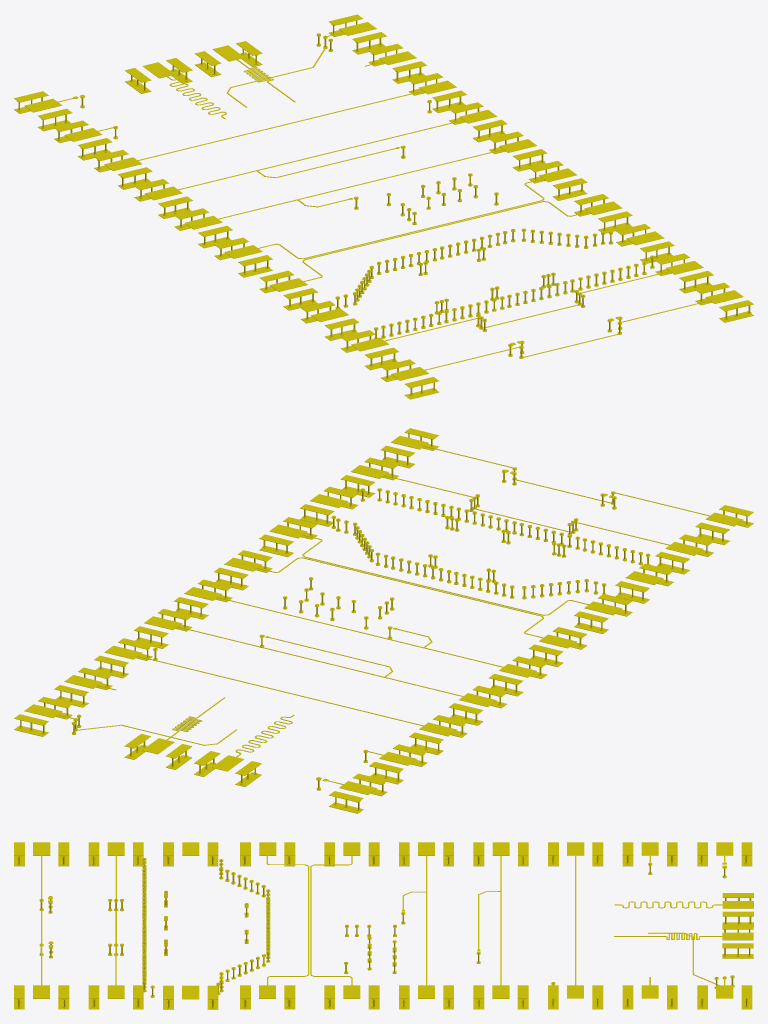
The model's file is signal-integrity-test-board-hs.glb.
3 renders of one model, top to bottom at view 1: azimuth 30°, elevation 25°; view 2: azimuth 150°, elevation 25°; view 3: azimuth 270°, elevation 25°, orthographic. The views are drawn at different scales.
Parts seen in each view (by area): view 1: =>[0:1:1:3], =>[0:1:1:2], =>[0:1:1:4]; view 2: =>[0:1:1:3], =>[0:1:1:2], =>[0:1:1:4]; view 3: =>[0:1:1:3], =>[0:1:1:2], =>[0:1:1:4].
Part boxes in pixels (bbox=[...]): =>[0:1:1:3]: bbox=[14, 14, 753, 399]; =>[0:1:1:2]: bbox=[17, 16, 751, 396]; =>[0:1:1:4]: bbox=[18, 20, 750, 395]; =>[0:1:1:3]: bbox=[14, 428, 753, 813]; =>[0:1:1:2]: bbox=[18, 429, 749, 811]; =>[0:1:1:4]: bbox=[20, 433, 747, 810]; =>[0:1:1:3]: bbox=[14, 842, 753, 1009]; =>[0:1:1:2]: bbox=[17, 842, 752, 1009]; =>[0:1:1:4]: bbox=[18, 855, 751, 1008].
Bounding box in the file's own units: 0.0497 × 0.00159 × 0.0992.
